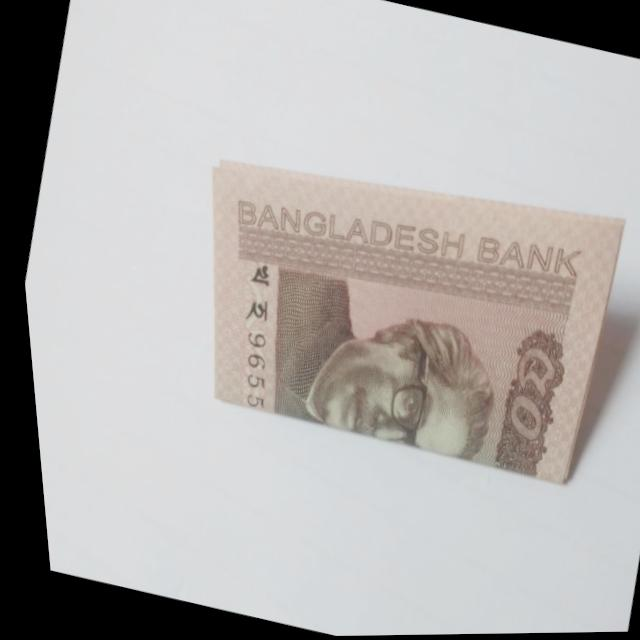Taka: (144, 128, 637, 502)
